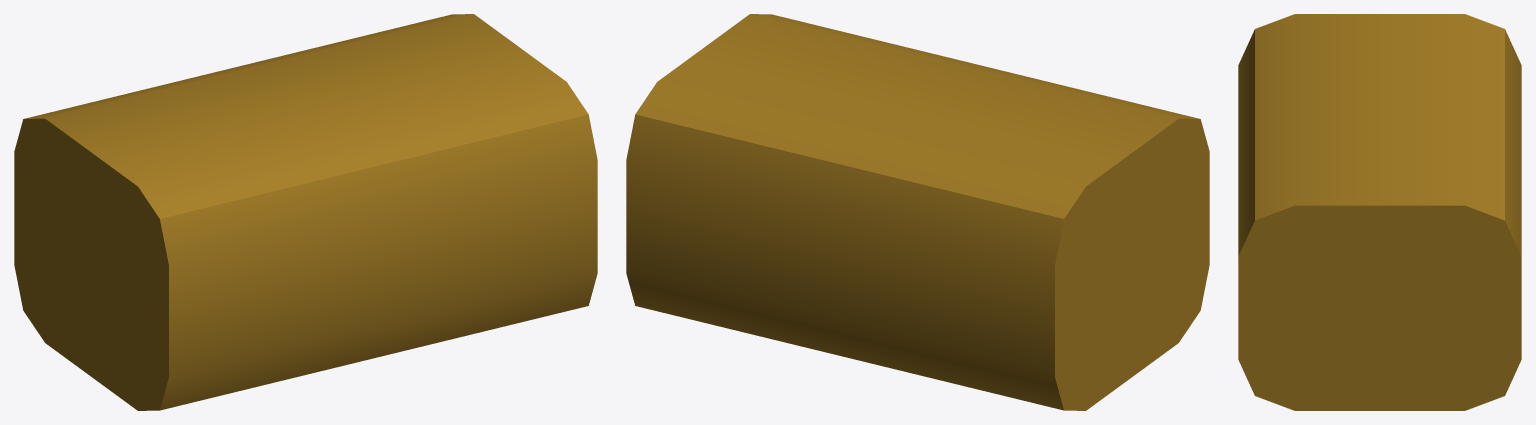
Rendered from WorkerHand_DriveTestClip.fbx.
The picture shows the model from 3 angles, left to right: view 1: azimuth 30°, elevation 25°; view 2: azimuth 150°, elevation 25°; view 3: azimuth 270°, elevation 25°; orthographic projection. The views are drawn at different scales.
Parts seen in each view (by area): view 1: Hand_DriveTestClip; view 2: Hand_DriveTestClip; view 3: Hand_DriveTestClip.
Boxes of the visible parts, <box> form: Hand_DriveTestClip: <box>14,14,597,410</box>; Hand_DriveTestClip: <box>626,14,1209,410</box>; Hand_DriveTestClip: <box>1238,14,1521,410</box>.
Bounding box in the file's own units: 0.008 × 0.004 × 0.005.
